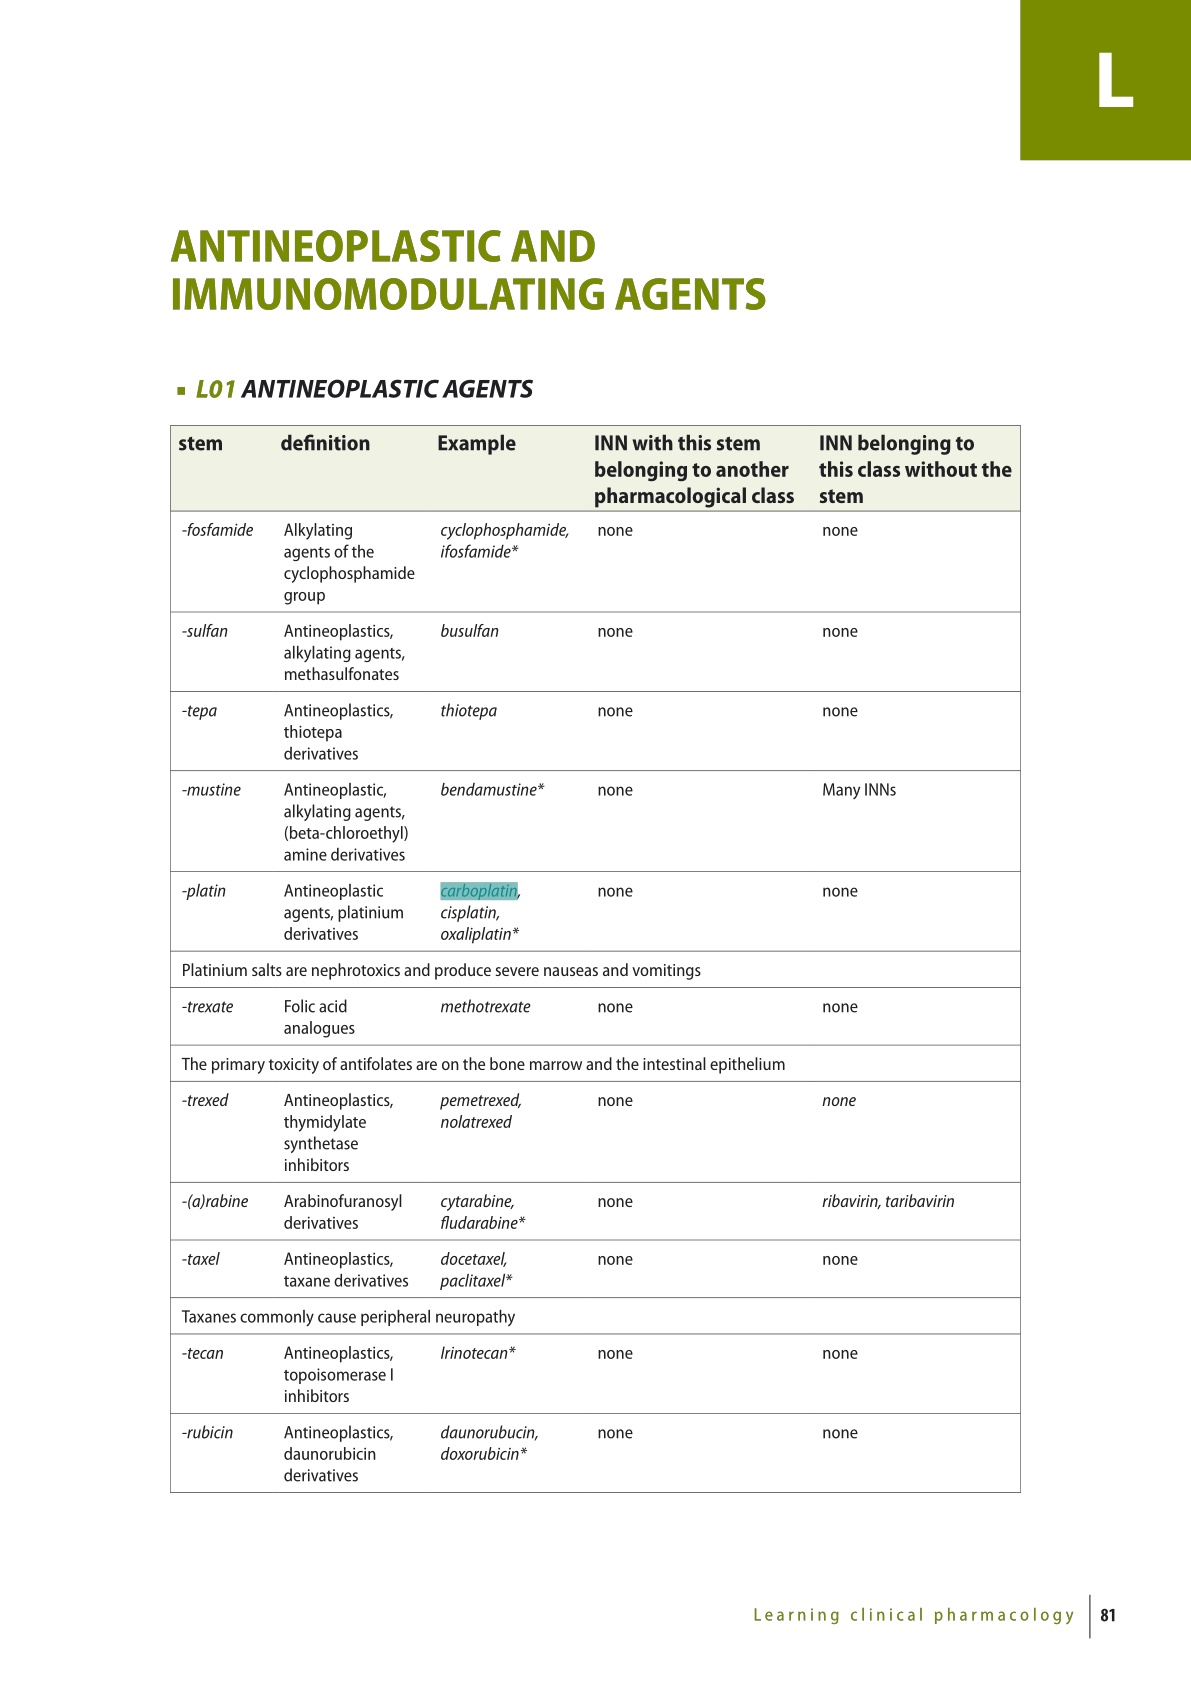partial_lined_merged_cells: (169, 423, 1023, 1495)
